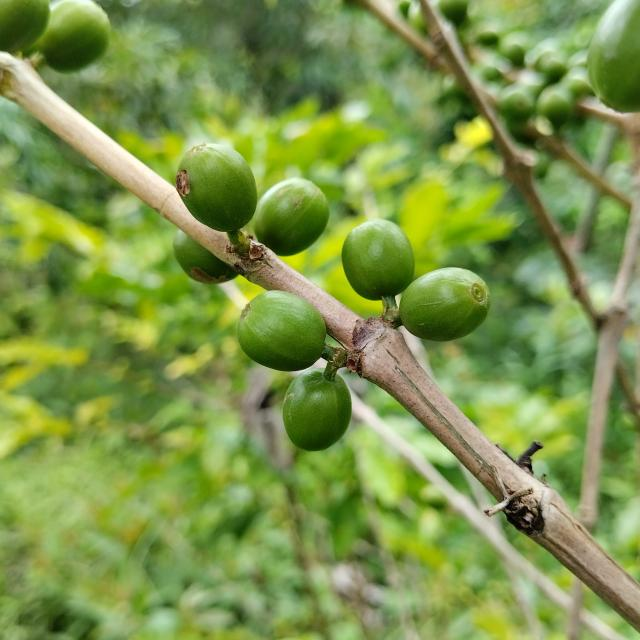green: (175, 143, 257, 232), (237, 290, 326, 372), (400, 268, 491, 342), (253, 177, 329, 256), (342, 219, 415, 301), (282, 369, 352, 452), (36, 0, 110, 71), (172, 229, 238, 284)
